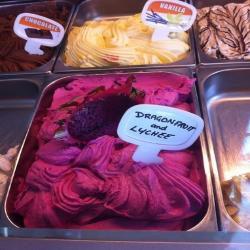icecream: (25, 76, 201, 231), (63, 7, 194, 72), (2, 4, 62, 69)
